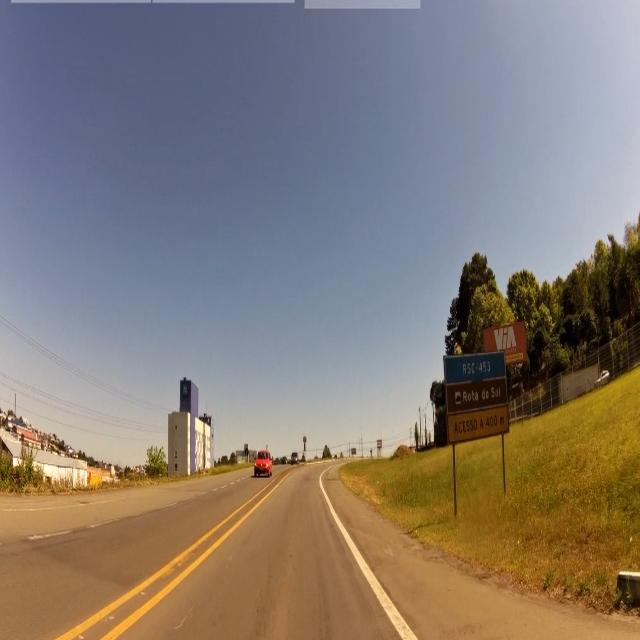LOC-6: (445, 350, 507, 375)
TUR-4: (443, 387, 507, 405)
